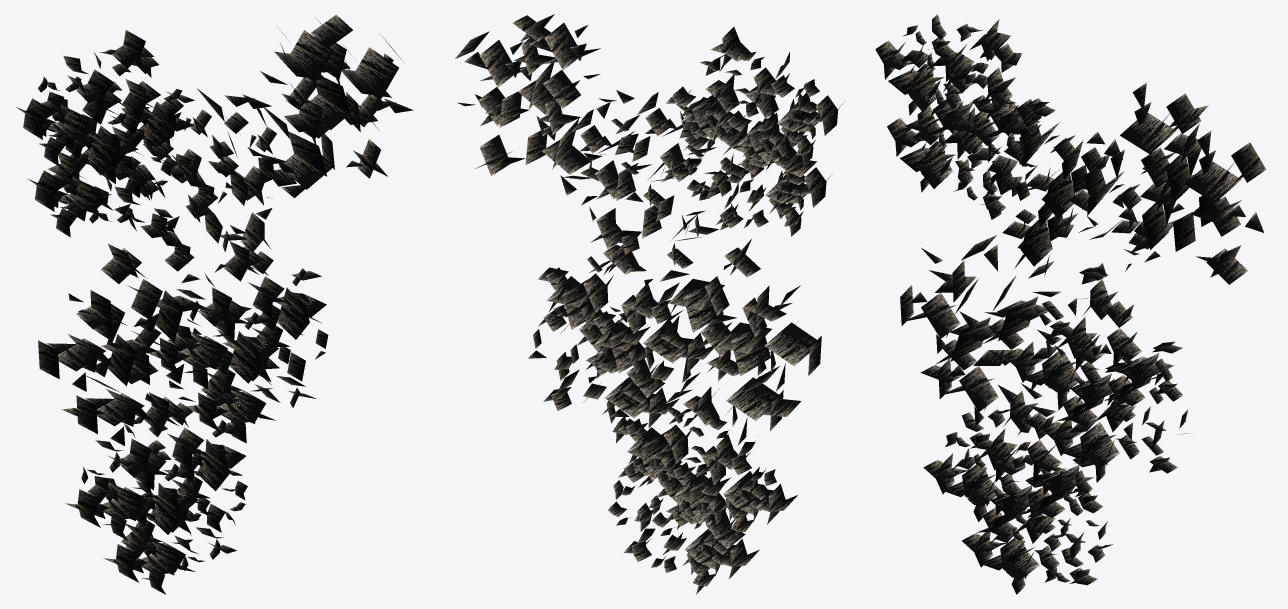
Rendered from Sandbox Grass2.dae.
The picture shows the model from 3 angles, left to right: view 1: azimuth 30°, elevation 25°; view 2: azimuth 150°, elevation 25°; view 3: azimuth 330°, elevation 25°; orthographic projection.
Parts seen in each view (by area): view 1: group_1 (×5), group; view 2: group_1 (×5), group; view 3: group_1 (×5), group.
Boxes of the visible parts, x1,y1,x2,y2 form: group_1 (×5): (15,14,413,445); group: (65,392,247,594); group_1 (×5): (455,14,843,445); group: (608,387,797,594); group_1 (×5): (875,14,1265,482); group: (923,390,1112,594).
Size of the model in its own units: 5.99 by 8.3 by 0.6802.
Materials: 1 (1 with a texture image).
